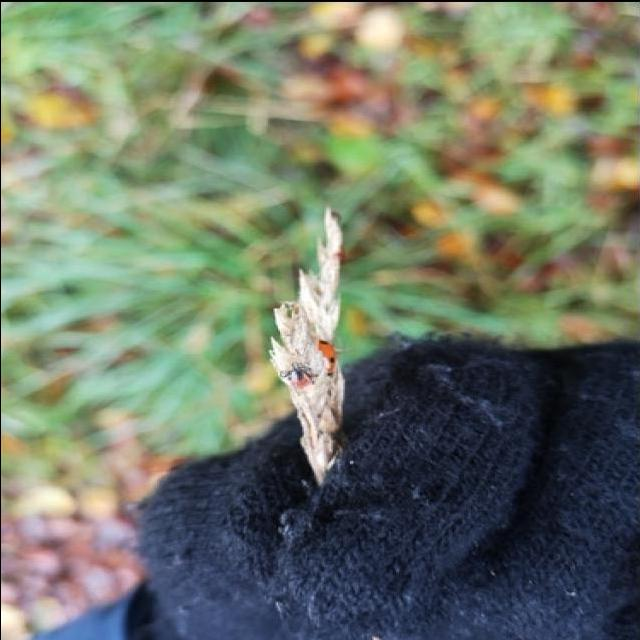Ixodes Ricinus-F: (278, 361, 317, 390)
